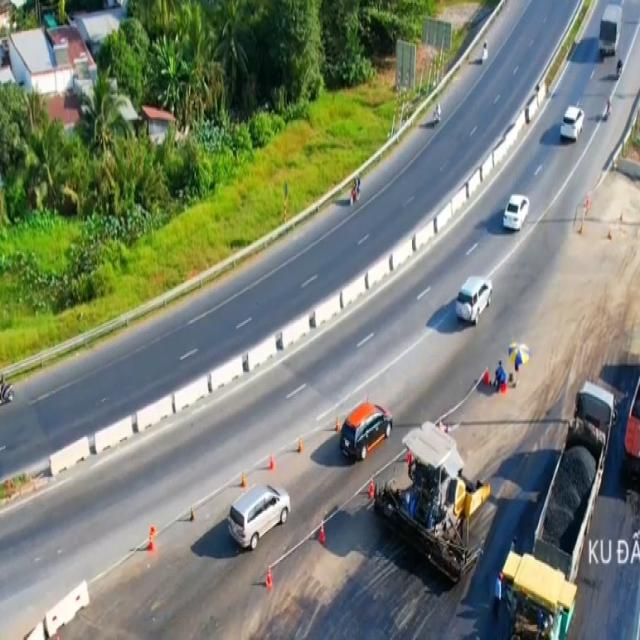car: (228, 477, 292, 549), (338, 399, 395, 468), (456, 274, 492, 325), (502, 189, 530, 233), (560, 101, 586, 141)
truck: (600, 5, 624, 60)
